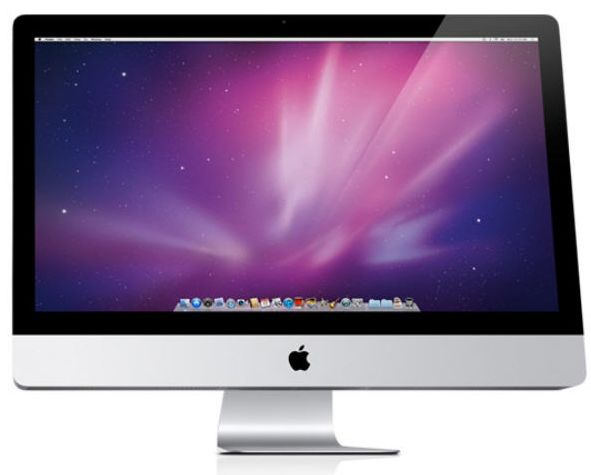Apple: (278, 339, 327, 375)
